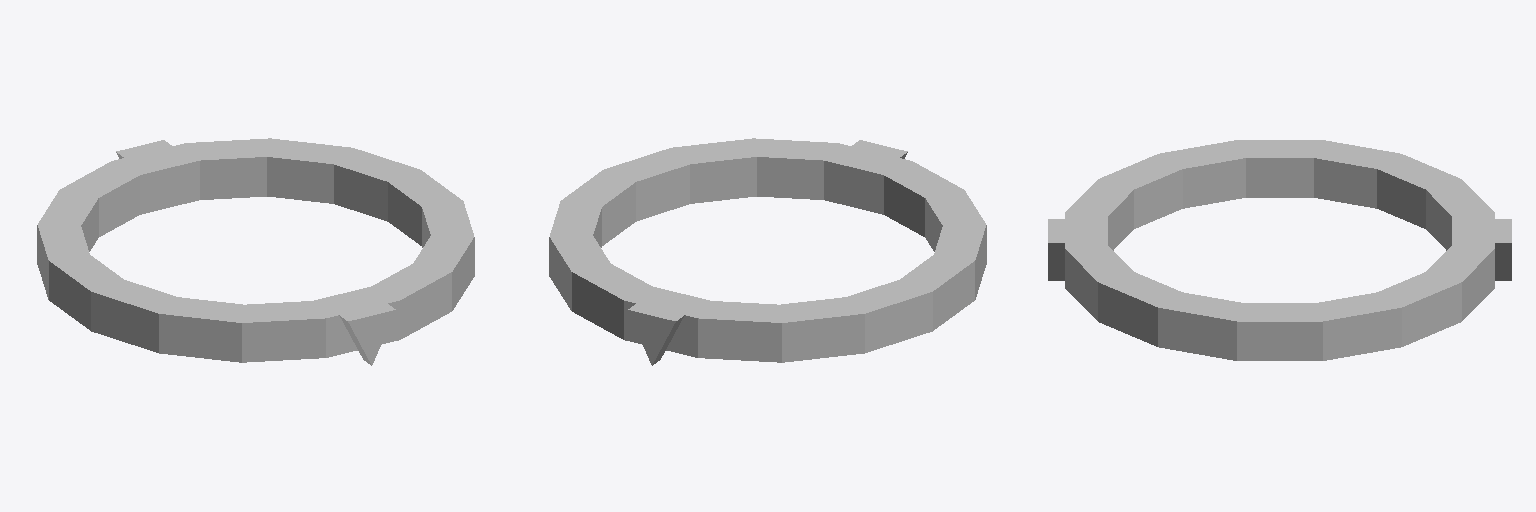
File: snake_bot-01-rotator.obj
The picture shows the model from 3 angles: view 1: azimuth 30°, elevation 25°; view 2: azimuth 150°, elevation 25°; view 3: azimuth 270°, elevation 25°; orthographic projection.
Parts seen in each view (by area): view 1: Cylinder.003_Cylinder.005, Plane_Plane.001; view 2: Cylinder.003_Cylinder.005, Plane.002_Plane.011; view 3: Cylinder.003_Cylinder.005, Plane_Plane.001, Plane.002_Plane.011.
Part boxes in pixels (x1,y1,x2,y2): Cylinder.003_Cylinder.005: (37, 138, 474, 362); Plane_Plane.001: (339, 303, 395, 365); Cylinder.003_Cylinder.005: (549, 138, 986, 362); Plane.002_Plane.011: (628, 303, 684, 365); Cylinder.003_Cylinder.005: (1065, 140, 1494, 360); Plane_Plane.001: (1048, 219, 1064, 280); Plane.002_Plane.011: (1495, 219, 1511, 280).
Size of the model in its own units: 1.96 by 0.2546 by 2.12.